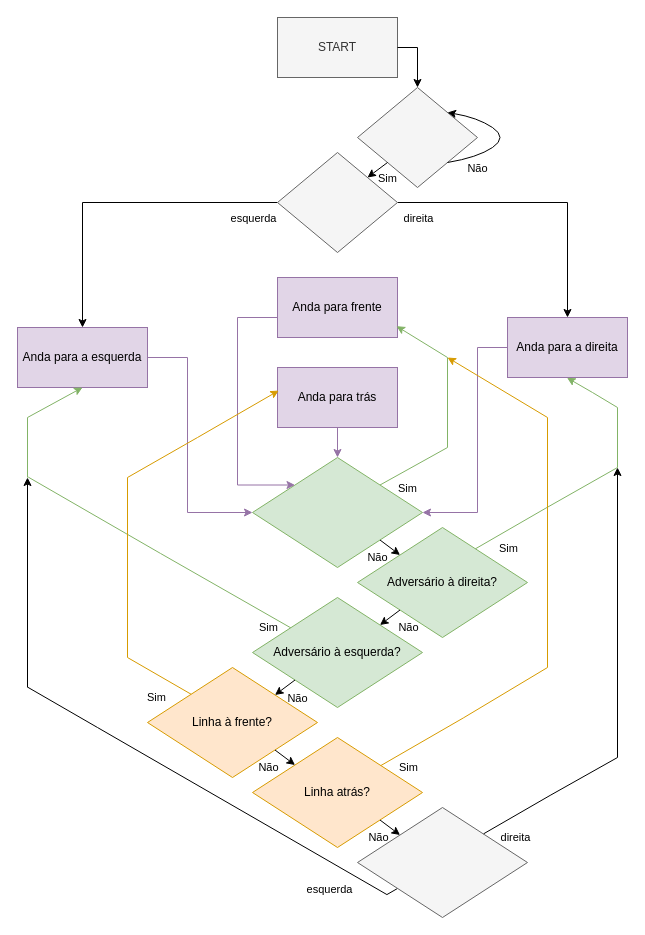
Some shapes in this 645 by 935 pixel diagram are drawn without their labels. Here are the shapes that lost their labels. From the top down, the box of each, then its label:
(356, 86, 478, 188): Início do round?
(276, 152, 398, 252): Escolhe direção aleatória
(252, 456, 422, 568): Adversário À frente?
(356, 806, 528, 918): Lembra última direção
